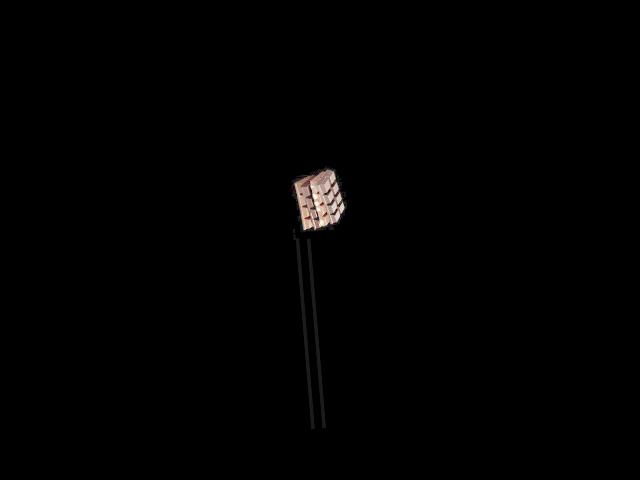chocolate: (291, 172, 346, 230)
